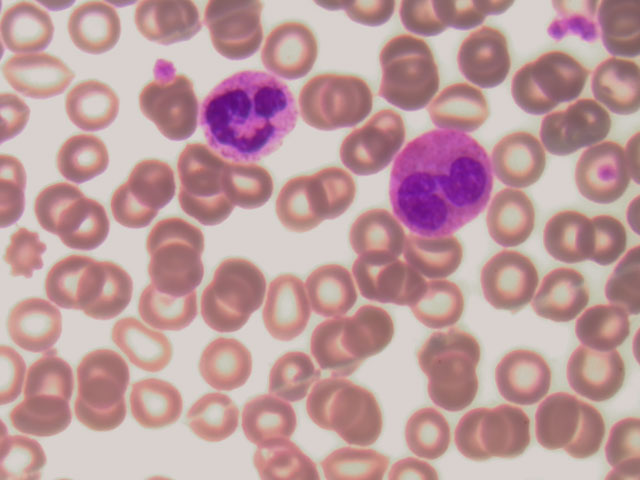Platelets: (544, 11, 599, 50), (148, 57, 176, 82)
RBC: (9, 47, 63, 104), (66, 75, 120, 132), (55, 128, 109, 185), (35, 175, 89, 232), (56, 202, 110, 259), (1, 226, 55, 283), (44, 254, 98, 311), (82, 263, 136, 320), (7, 297, 61, 354), (22, 345, 76, 402), (16, 388, 70, 445), (75, 345, 129, 402), (75, 380, 129, 437), (126, 374, 180, 431), (113, 317, 167, 374), (138, 283, 192, 340), (151, 244, 205, 301), (151, 213, 205, 270), (106, 182, 160, 239), (123, 155, 177, 212), (171, 135, 225, 192), (218, 152, 272, 209), (185, 173, 239, 230), (267, 172, 321, 229), (302, 164, 356, 221), (349, 200, 403, 257), (353, 242, 407, 299), (306, 262, 360, 319), (258, 281, 312, 338), (217, 256, 271, 313), (195, 280, 249, 337), (196, 337, 250, 394), (187, 387, 241, 444), (233, 387, 287, 444), (303, 374, 357, 431), (270, 350, 324, 407), (324, 389, 378, 446), (394, 404, 448, 461), (425, 360, 479, 417), (426, 327, 480, 384), (414, 276, 468, 333), (387, 261, 441, 318), (404, 232, 458, 289), (307, 316, 361, 373), (339, 302, 393, 359), (484, 251, 538, 308), (486, 195, 540, 252), (496, 136, 550, 193), (435, 79, 489, 136), (383, 57, 437, 114), (370, 26, 424, 83), (325, 67, 379, 124), (294, 73, 348, 130), (264, 23, 318, 80), (216, 16, 270, 73), (67, 1, 121, 58), (537, 266, 591, 323), (573, 291, 627, 348), (570, 335, 624, 392), (498, 350, 552, 407), (488, 402, 542, 459), (449, 406, 503, 463), (526, 392, 580, 449), (557, 404, 611, 461), (585, 214, 639, 271), (537, 208, 591, 265), (575, 143, 629, 200), (566, 97, 620, 154), (534, 108, 588, 165), (498, 62, 552, 119), (539, 51, 593, 108), (463, 29, 517, 86), (586, 58, 640, 115), (1, 1, 55, 57), (256, 437, 313, 480), (324, 437, 381, 480)
WBC: (393, 129, 493, 235), (197, 66, 300, 166)
